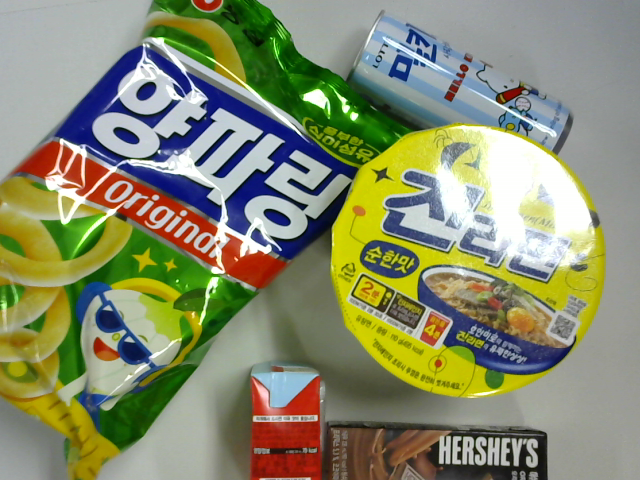Hush_Choco_Drink: (299, 406, 546, 480)
Jinlamyeon_Mild_Taste_Large_Cup: (315, 128, 610, 396)
Milkies_250ml: (341, 19, 580, 149)
Oninon_Ring: (1, 7, 376, 463)
Picnic_Apple: (237, 351, 333, 480)
